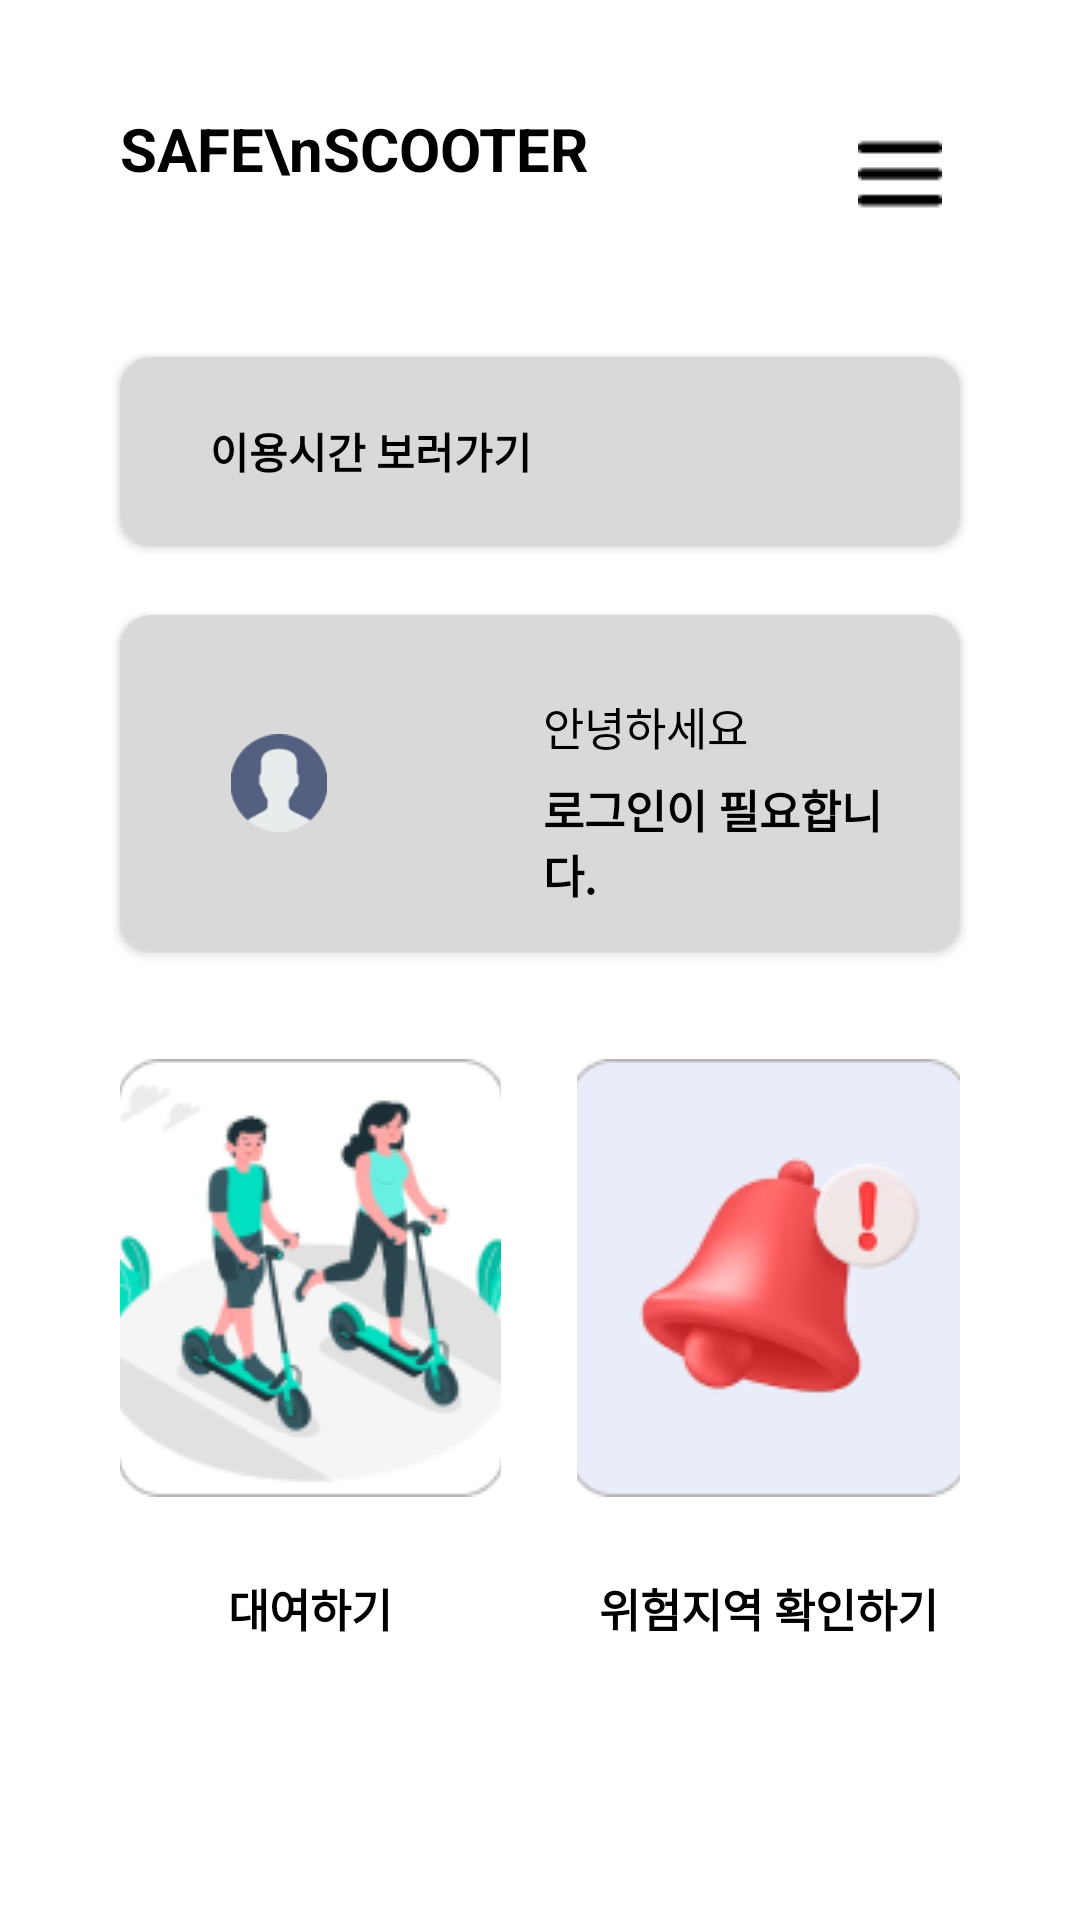

Where to tap for icons on this 1080*1920 app screen, as (x=x, y=y):
menu: (x=900, y=174)
profile: (x=279, y=777)
